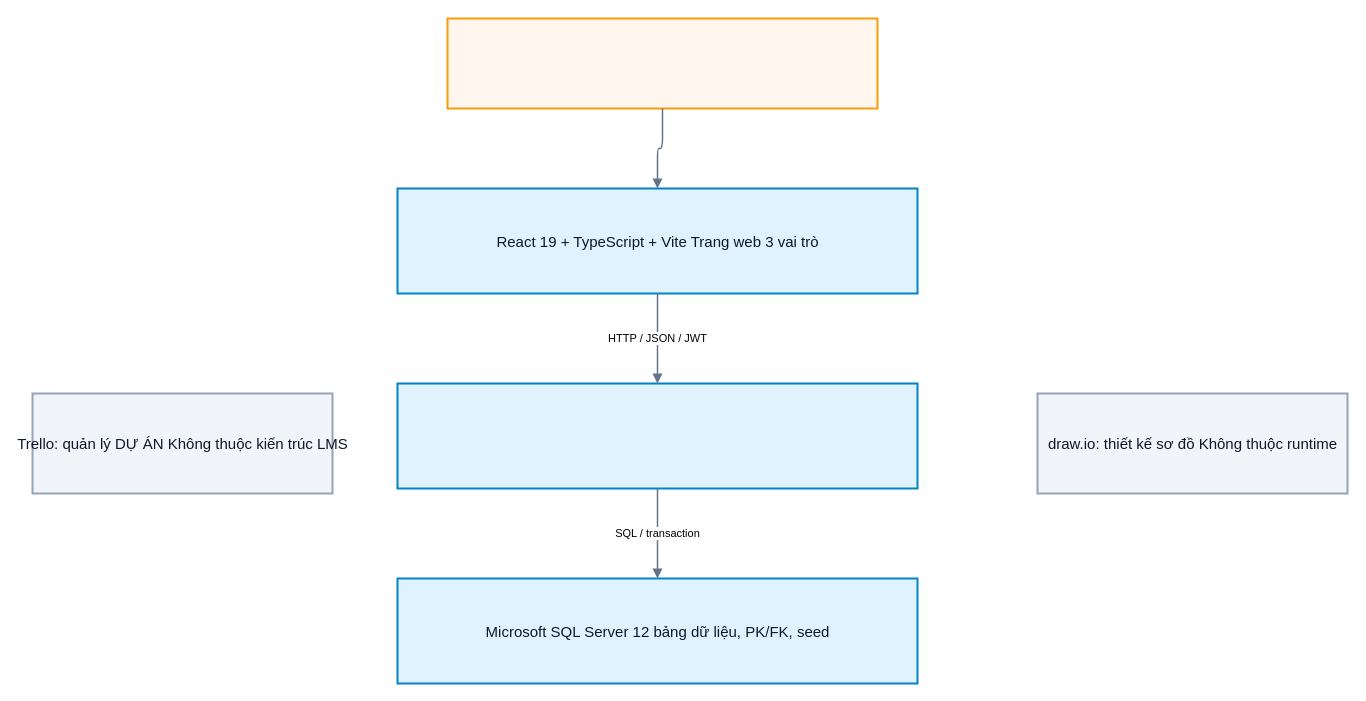
Some shapes in this 1366 by 701 pixel diagram are drawn without their labels. The shapes that lost their labels are listed below. From the top down, each one's box as (x1, y1, x2, y2) in pixels, then its label:
(446, 17, 878, 109): Admin · Giảng viên · Sinh viên
(396, 382, 918, 489): FastAPI + SQLAlchemy JWT · RBAC · REST API · Business rules
